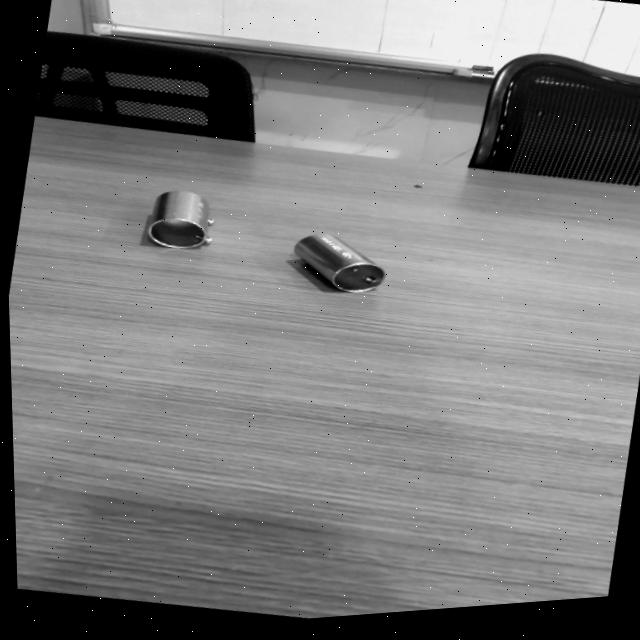Co_Lon: (146, 188, 212, 251)
Co_Nho: (288, 220, 388, 307)
